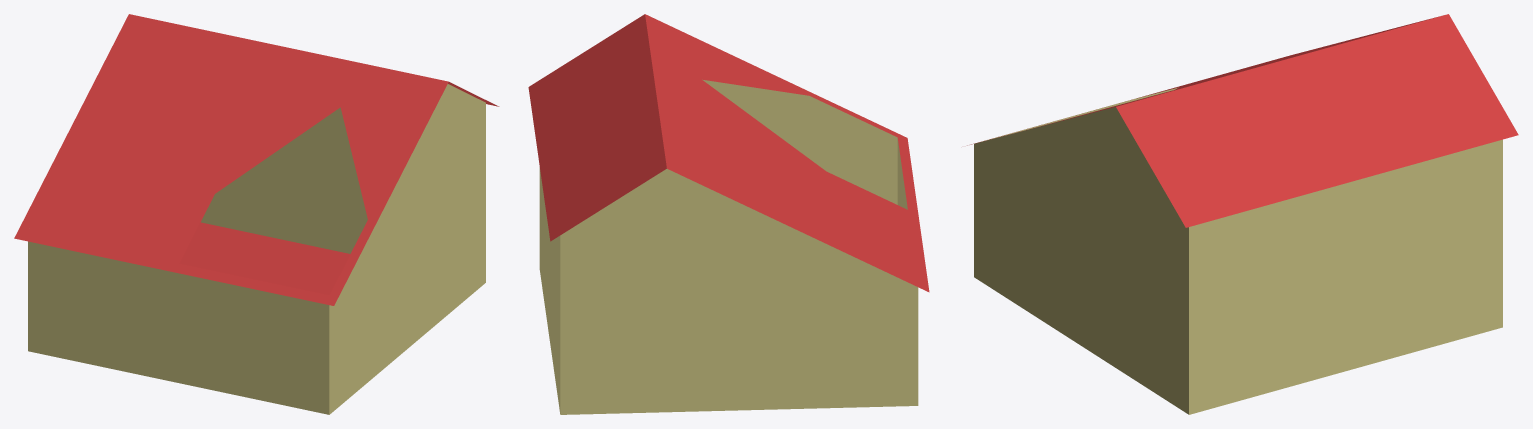
3 renders of one model, left to right at view 1: azimuth 30°, elevation 25°; view 2: azimuth 150°, elevation 25°; view 3: azimuth 270°, elevation 25°, orthographic. The views are drawn at different scales.
Size of the model in its own units: 24.49 by 24.31 by 12.92.
